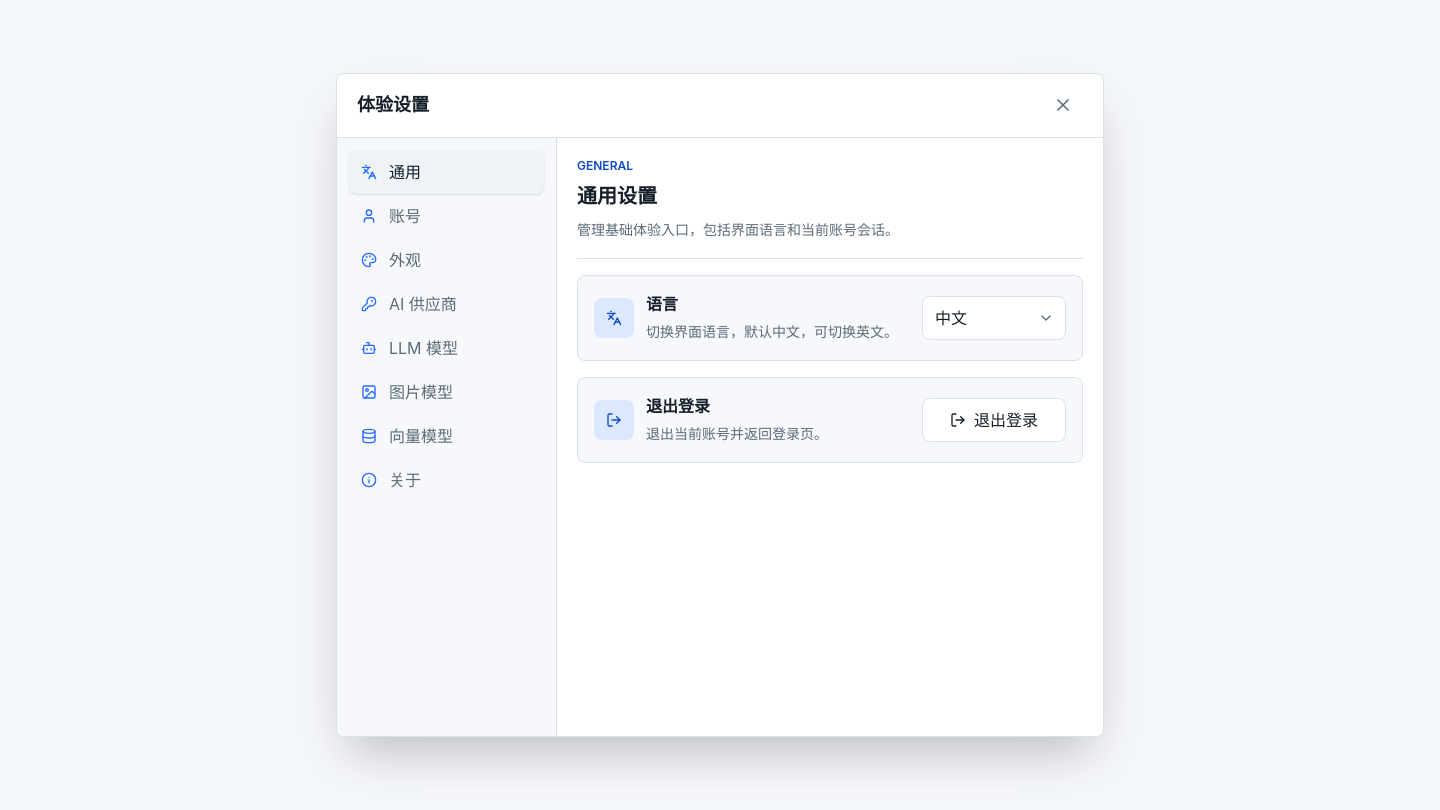
Test case: ExperienceSettingsDialog › renders provider management and opens the provider form
Click the button "AI 供应商".
click(446, 304)  # box [349,282,544,326]
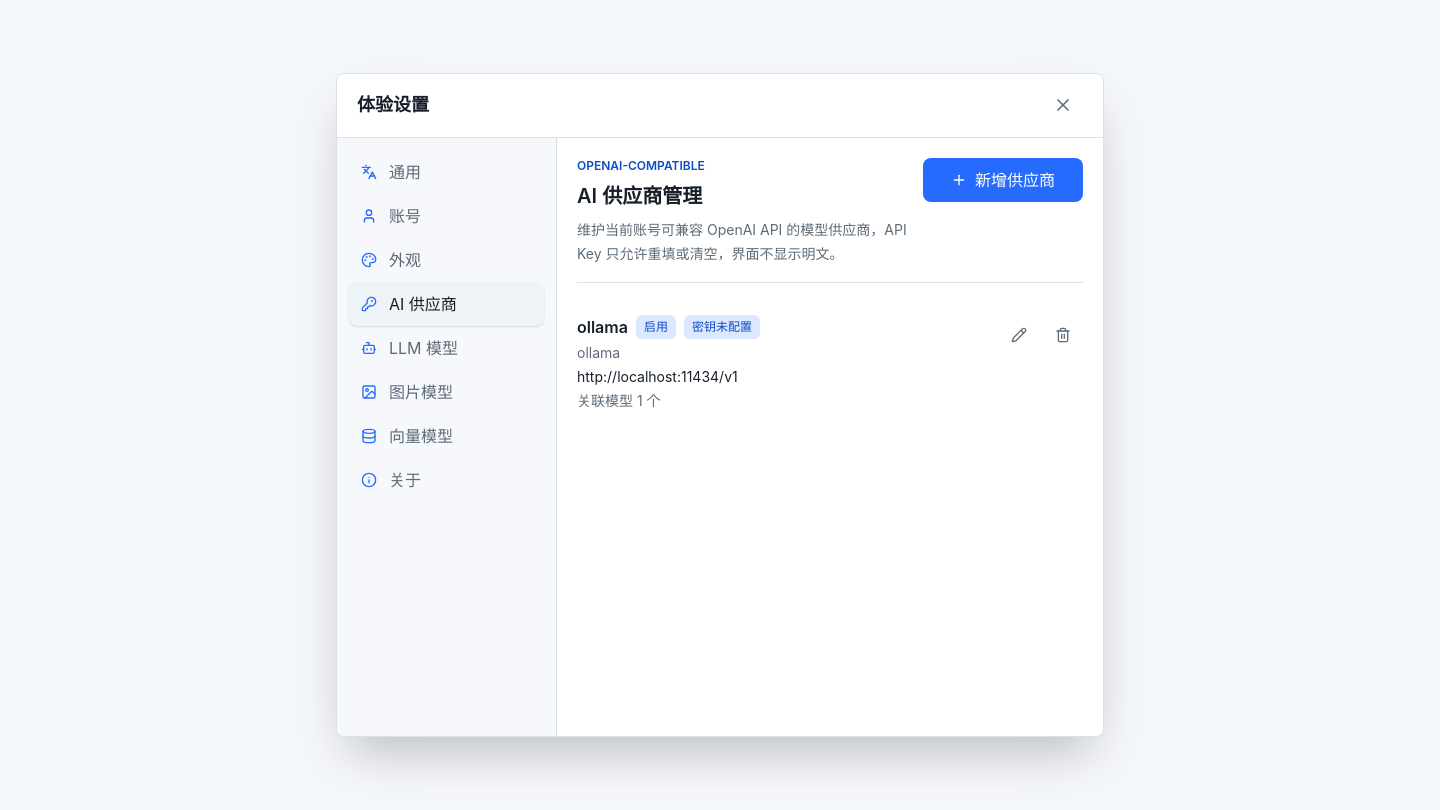
Check: the heading "AI 供应商管理" is shown, box [577,184,702,208]
Check: the text "密钥未配置" is shown, box [684,315,760,339]
Check: the heading "ollama" is shown, box [577,315,628,339]
Click the button "新增供应商".
click(1003, 180)  # box [923,158,1083,202]
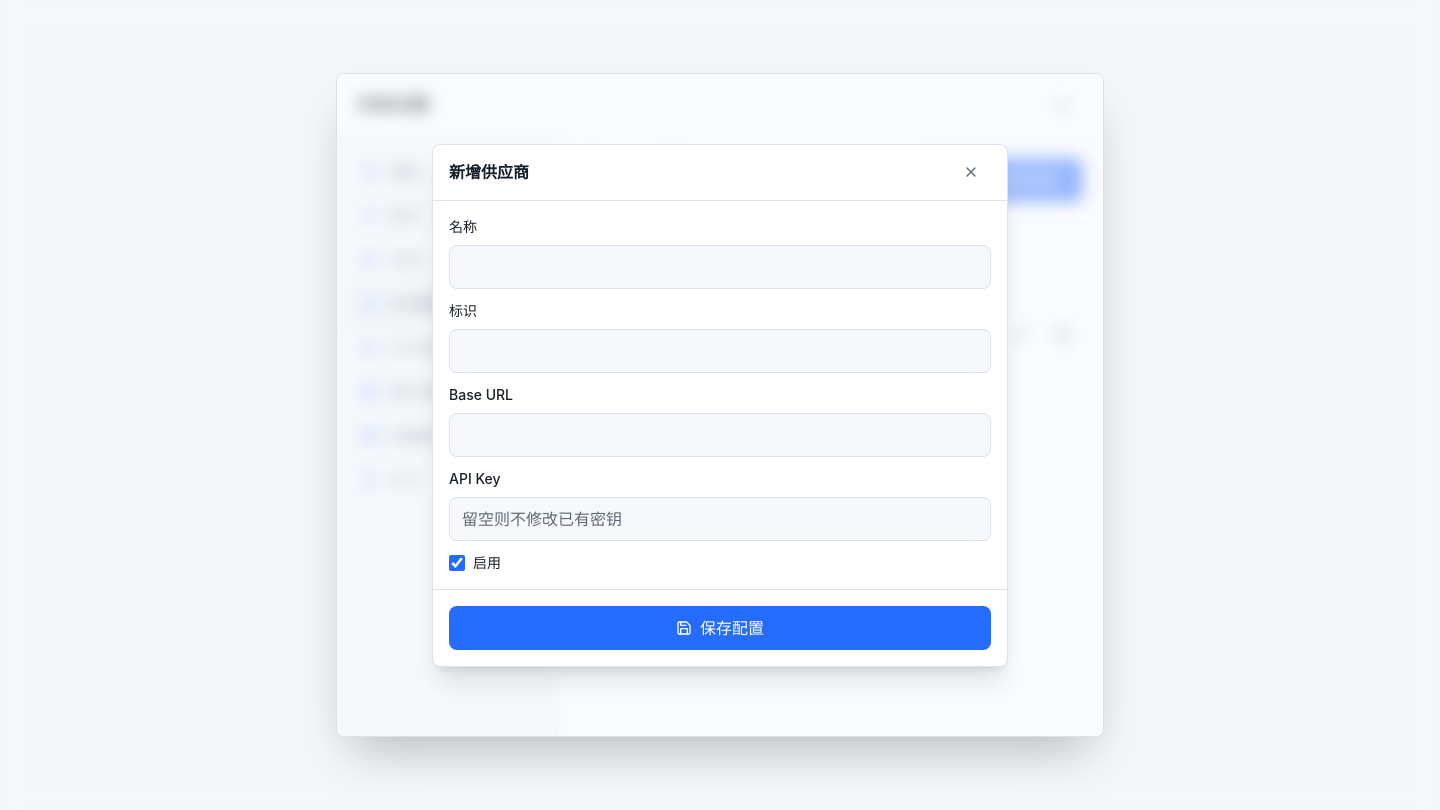
Check: the heading "新增供应商" is shown, box [449,160,529,184]
Check: the field labelled "Base URL" is shown, box [449,412,991,456]
